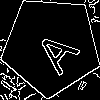A: (26, 21, 81, 77)
